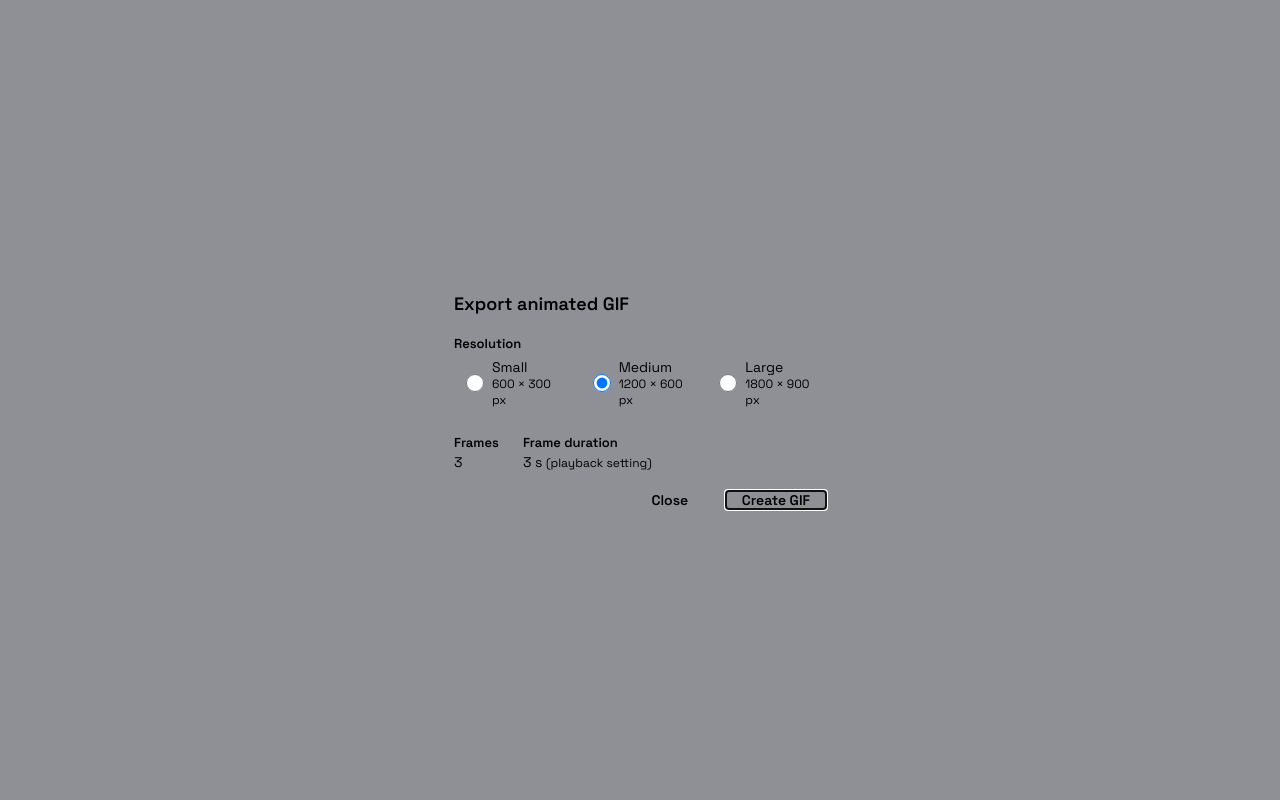
Test: ExportAnimationDialog › while creating › shows a progress bar with the frame being rendered, and Cancel
The image size is (1280, 800).
Click the button "Create GIF": (776, 500) [726,490,826,508]
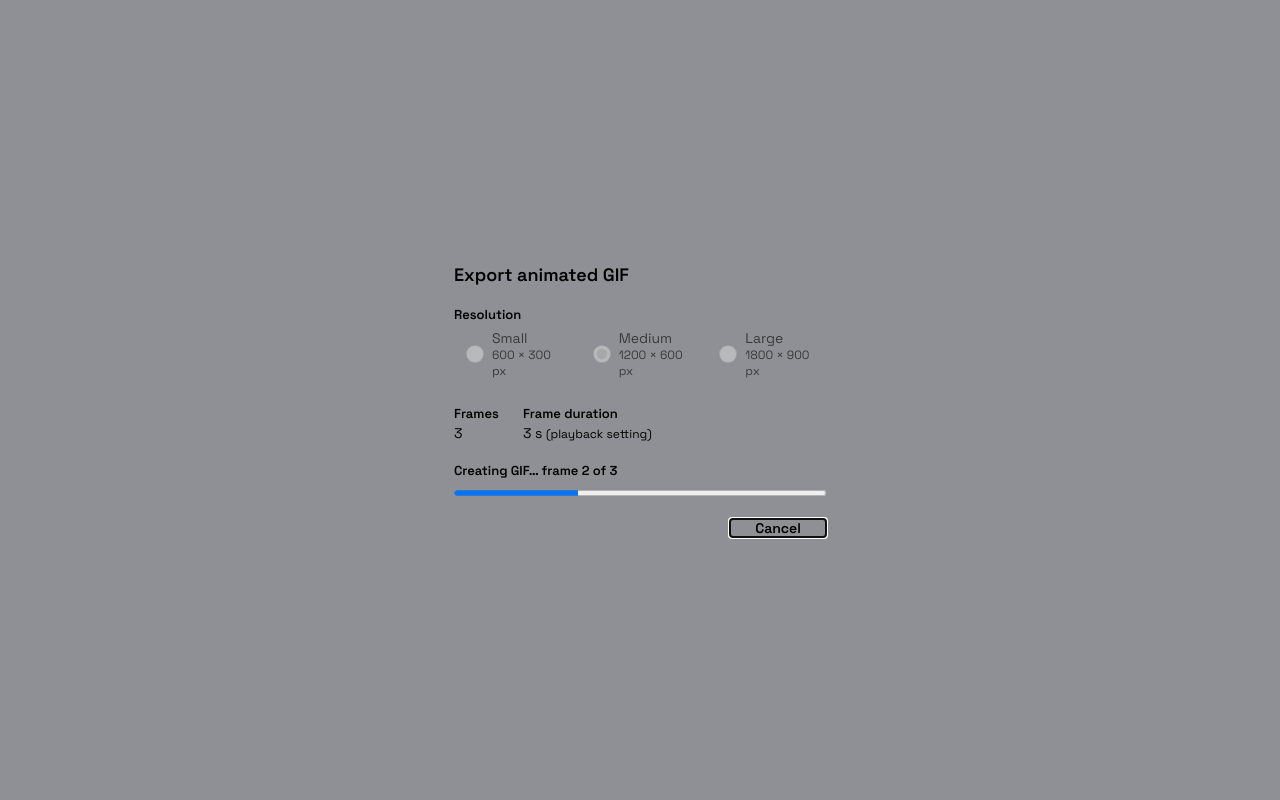
Result: the progress indicator named "frame 2 of 3" holds "1" at [454,487,826,499]
Result: the button "Cancel" is shown at [730,519,826,537]
Result: the button "Create GIF" is gone
